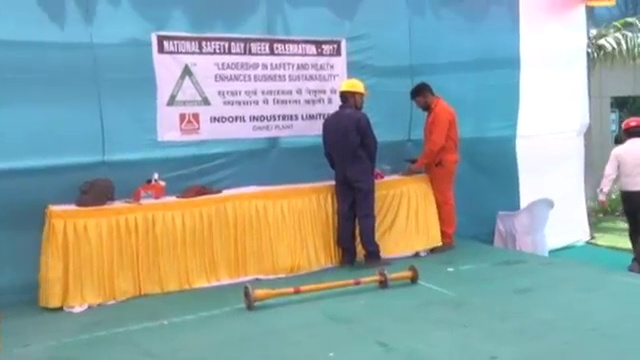helmet: (337, 76, 367, 95), (621, 115, 640, 131)
helmet_off: (408, 82, 438, 112)
helmet_on: (335, 75, 367, 113), (619, 115, 640, 143)
person: (321, 75, 392, 269), (405, 80, 458, 256), (598, 116, 640, 275)
